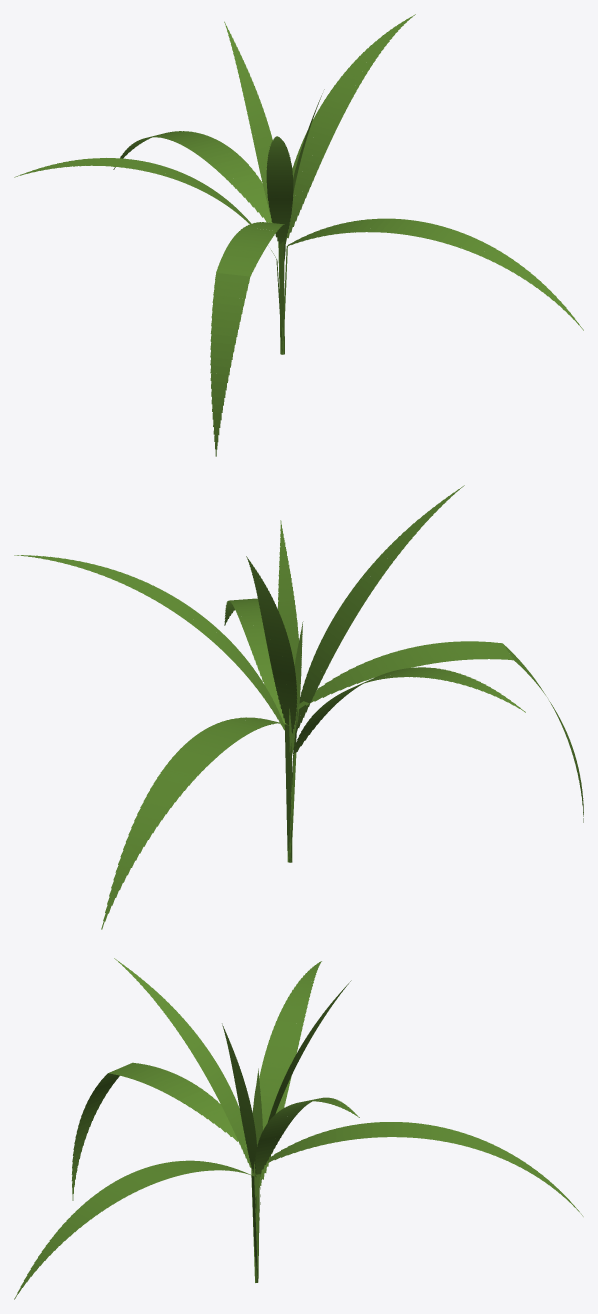
File: maize_002_day_070.dae
The picture shows the model from 3 angles, top to bottom: view 1: azimuth 30°, elevation 25°; view 2: azimuth 150°, elevation 25°; view 3: azimuth 270°, elevation 25°; orthographic projection. The views are drawn at different scales.
Parts seen in each view (by area): view 1: node; view 2: node; view 3: node.
Boxes of the visible parts, left/top/right/bottom form: node: left=14, top=14, right=583, bottom=456; node: left=14, top=485, right=583, bottom=929; node: left=14, top=958, right=583, bottom=1299.
Bounding box in the file's own units: 0.9185 × 0.6264 × 1.09.
Materials: 1 (1 with a texture image).
